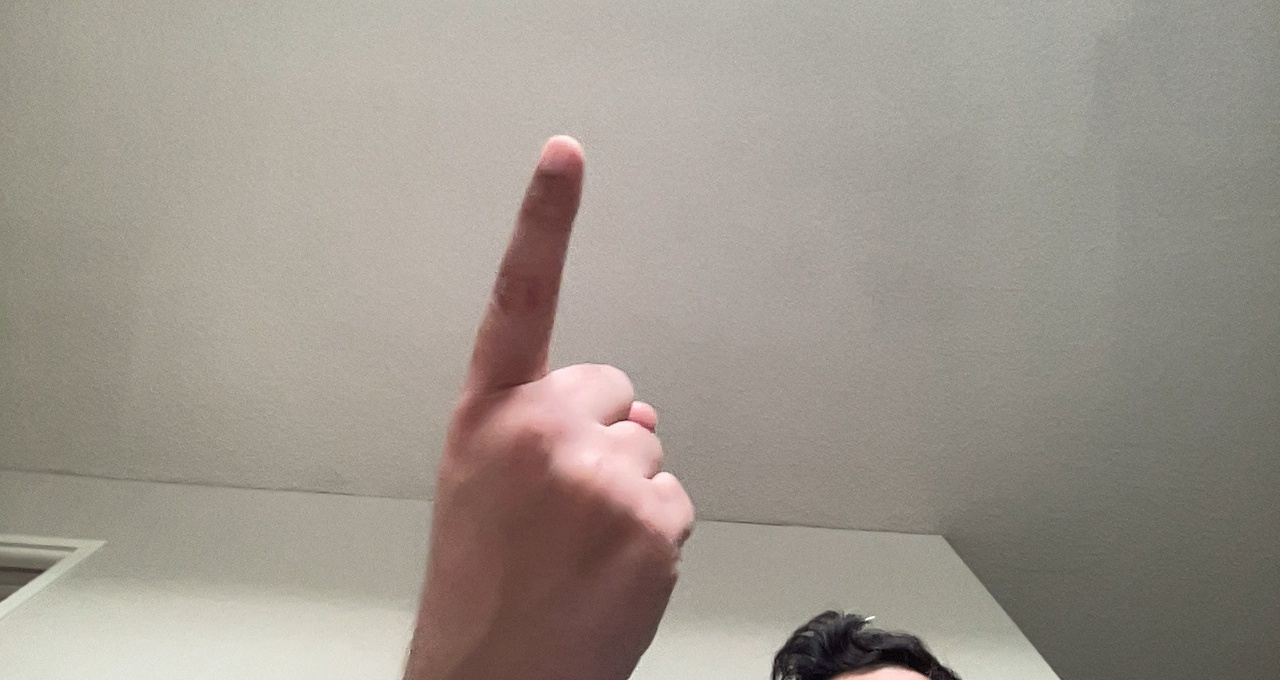fingerup: (420, 119, 703, 680)
